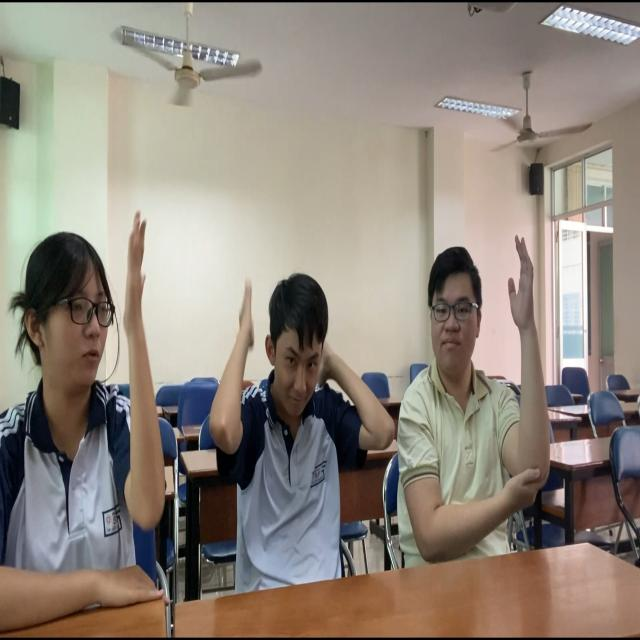raise_hand: (1, 178, 208, 640), (415, 199, 561, 554)
